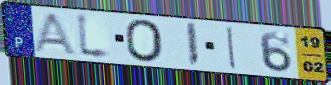6: (258, 30, 294, 73)
A: (29, 12, 79, 57)
I: (184, 22, 201, 68), (225, 25, 238, 71)
L: (75, 11, 115, 63)
O: (123, 18, 166, 64)
